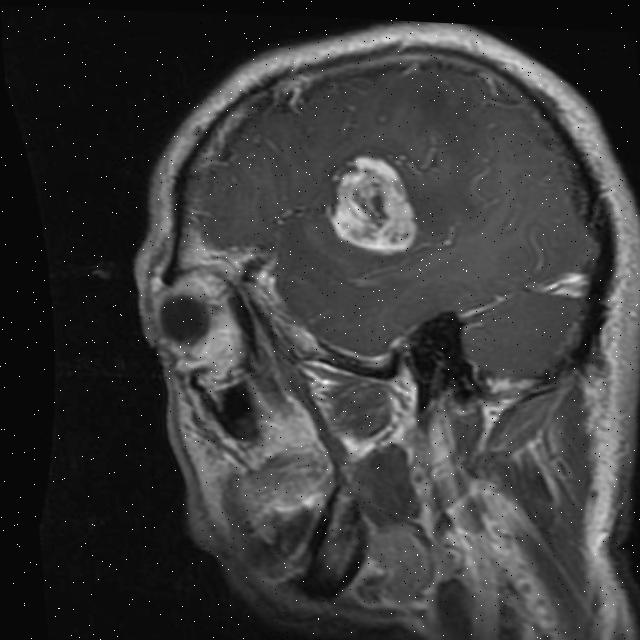Glioma: (324, 151, 421, 259)
